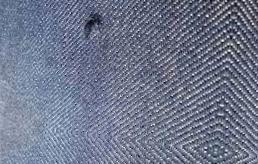knot: (81, 15, 103, 40)
